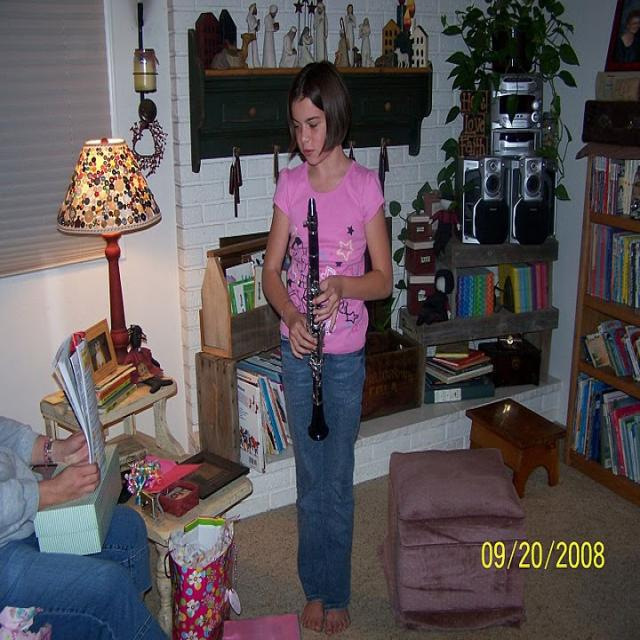clarinet: (304, 190, 332, 444)
